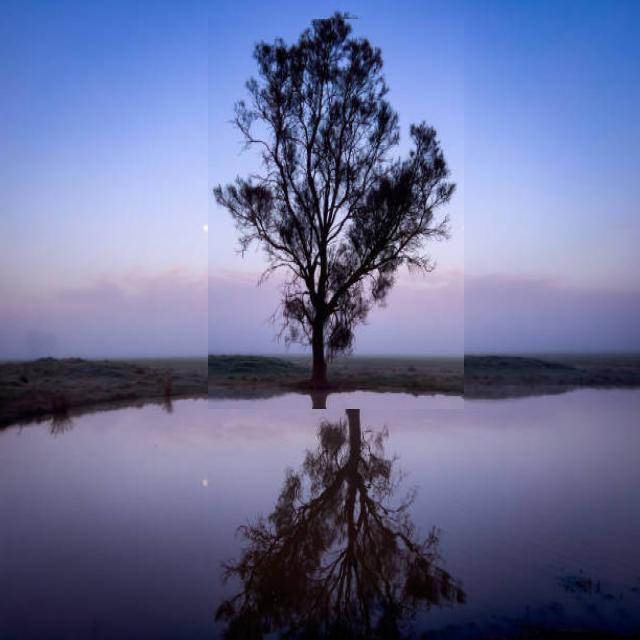tree: (208, 19, 464, 409)
